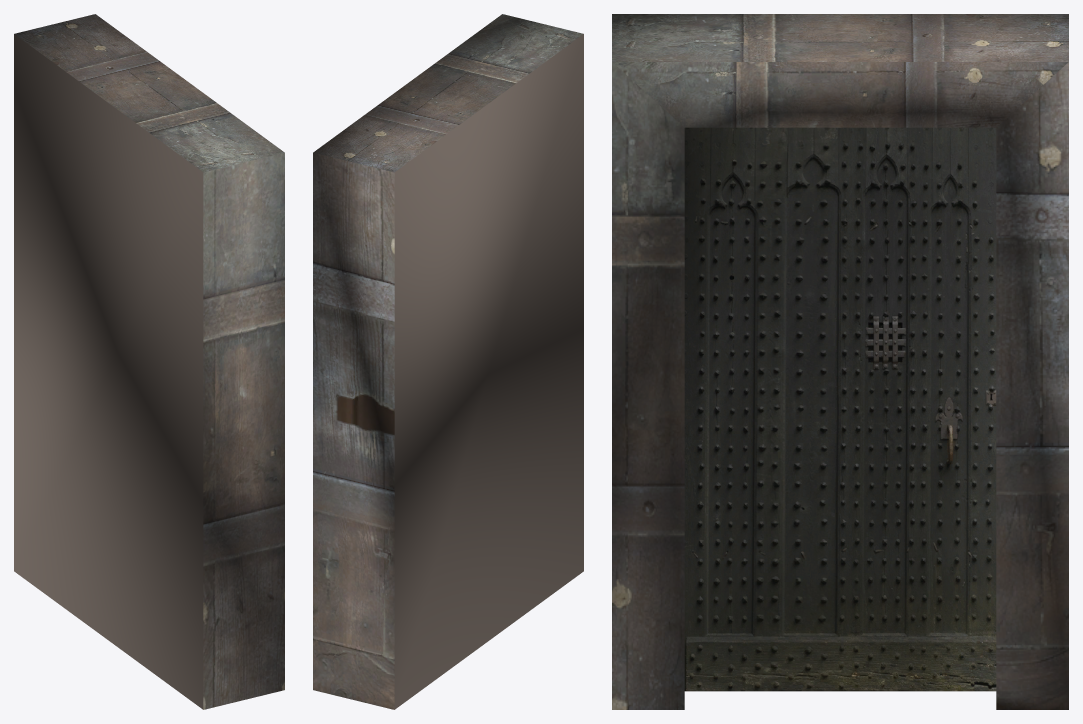
Rendered from mondoorB.obj.
3 renders of one model, left to right at view 1: azimuth 30°, elevation 25°; view 2: azimuth 150°, elevation 25°; view 3: azimuth 270°, elevation 25°, orthographic. The views are drawn at different scales.
Visible parts, largest first — view 1: MonDoorA; view 2: MonDoorA; view 3: MonDoorA.
Boxes of the visible parts, box(x1,y1,x2,y2) form: MonDoorA: box(14, 14, 284, 709); MonDoorA: box(313, 14, 583, 709); MonDoorA: box(612, 14, 1068, 709).
Size of the model in its own units: 14.96 by 94.3 by 60.24.
